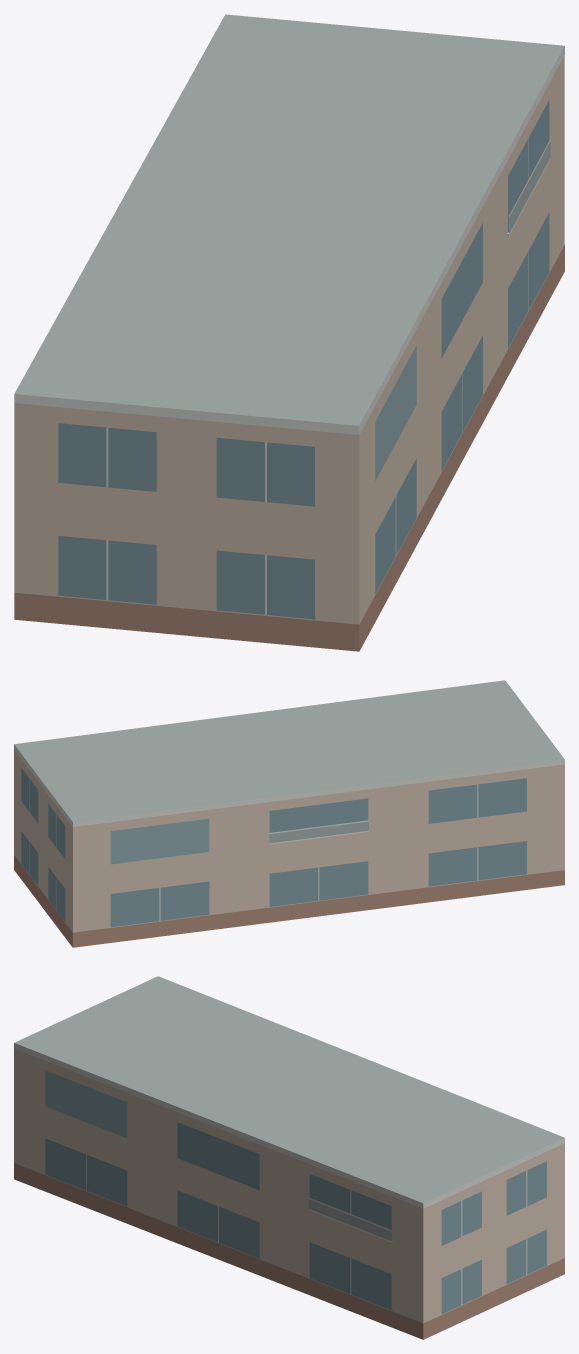
Rendered from survey-upis-32713180.glb.
3 views of the same model, one above another, from view 1: azimuth 30°, elevation 25°; view 2: azimuth 150°, elevation 25°; view 3: azimuth 270°, elevation 25° (orthographic). The views are drawn at different scales.
Visible parts, largest first — view 1: survey-upis-32713180.tmp; view 2: survey-upis-32713180.tmp; view 3: survey-upis-32713180.tmp.
Boxes of the visible parts, bbox=[...] form: survey-upis-32713180.tmp: bbox=[14, 14, 564, 651]; survey-upis-32713180.tmp: bbox=[14, 680, 564, 947]; survey-upis-32713180.tmp: bbox=[14, 976, 564, 1339].
Bounding box in the file's own units: 21.79 × 6.1 × 22.32.
